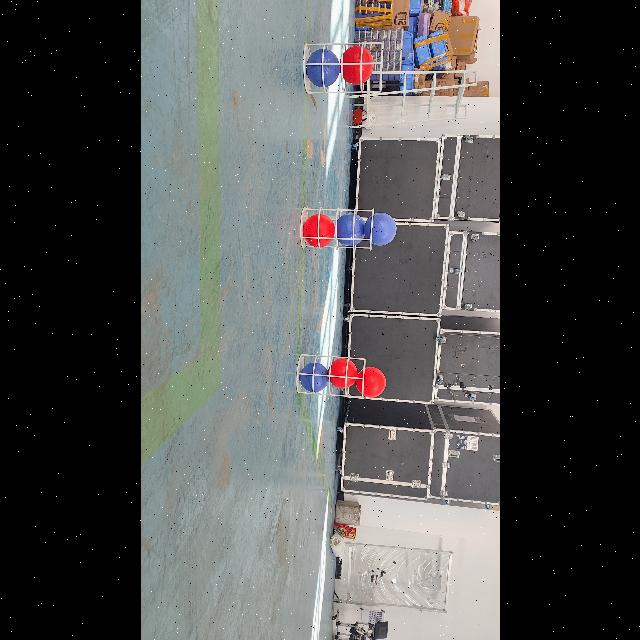B: (306, 48, 340, 86), (364, 212, 396, 245), (336, 213, 364, 245), (300, 362, 328, 392)
R: (340, 46, 374, 84), (304, 214, 334, 246), (356, 367, 386, 398), (328, 358, 358, 388)
S: (300, 36, 386, 98), (296, 204, 378, 252), (293, 352, 367, 404)
